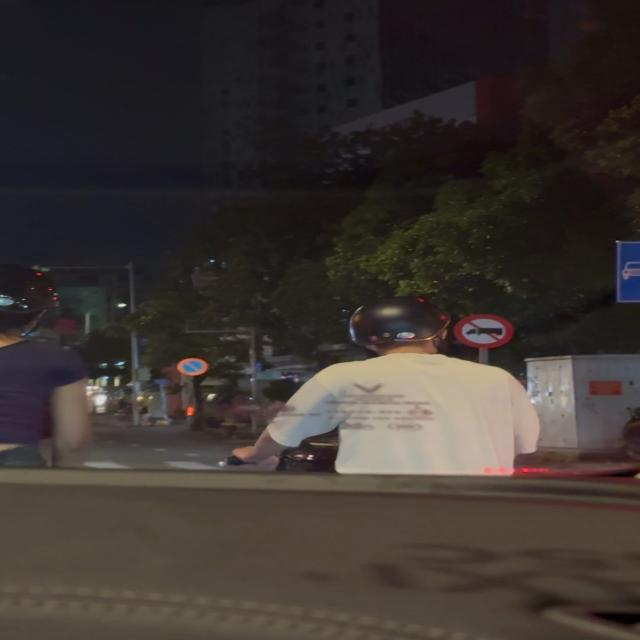Bien bao cam do xe: (175, 357, 209, 378)
Bien bao cam xe so-mi ro-mooc: (451, 312, 516, 349)
